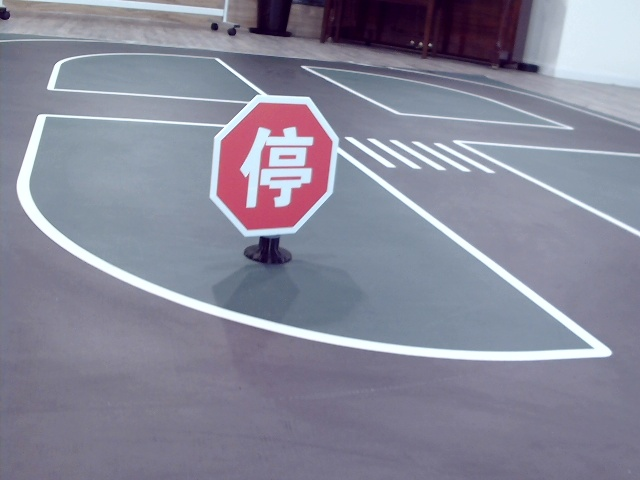stop: (245, 121, 312, 207)
